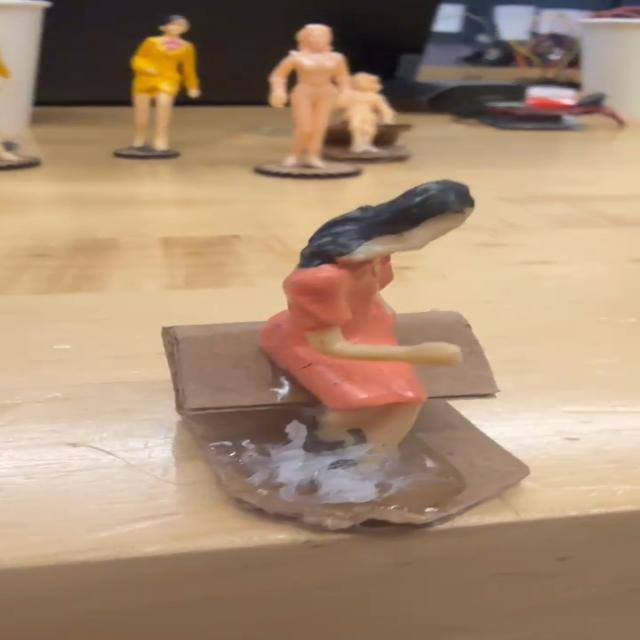Authorized: (247, 172, 468, 621)
